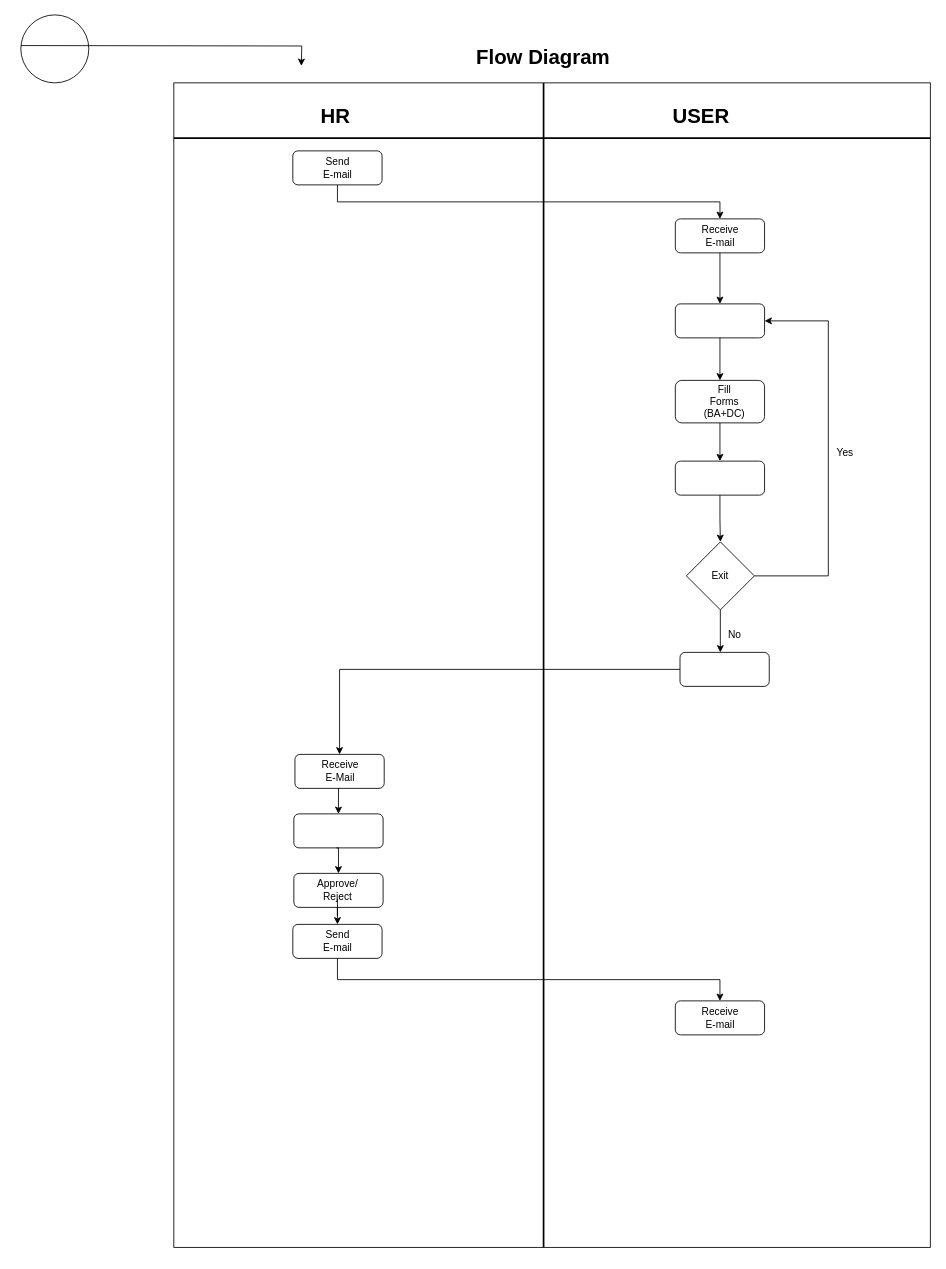
Some shapes in this 946 by 1269 pixel diagram are drawn without their labels. Here are the shapes that lost their labels. From the top down, the centre of each, then its label:
point (719, 320): Click on Link
point (719, 477): Save
point (724, 669): Submit
point (338, 830): Verify
